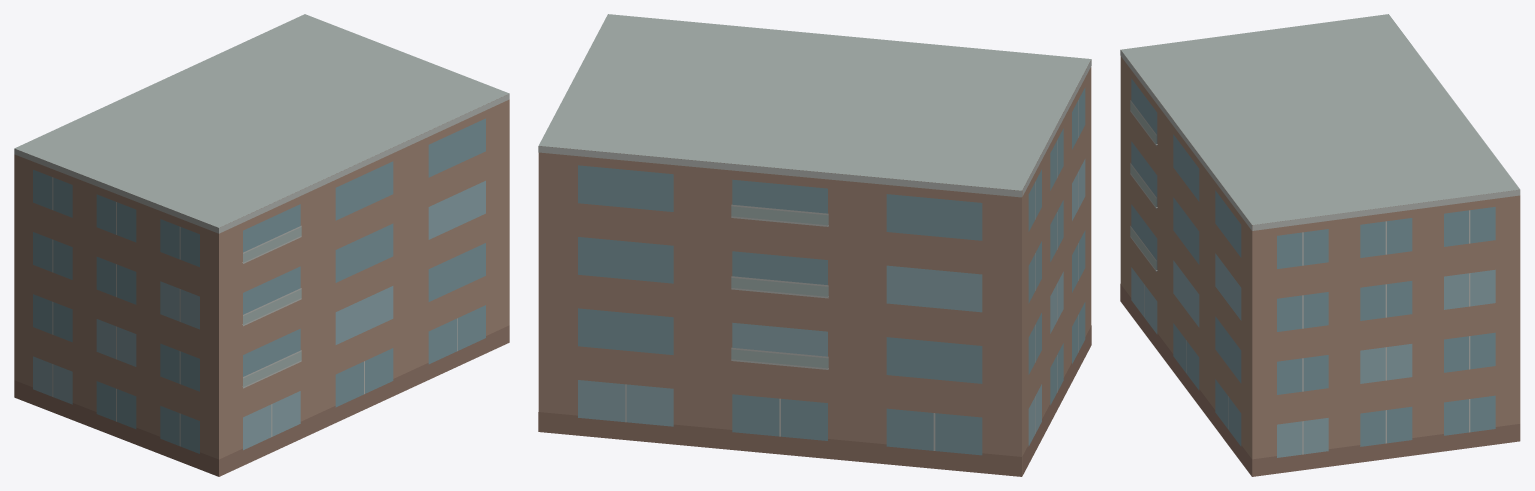
File: survey-upis-32720587.glb
The picture shows the model from 3 angles, left to right: view 1: azimuth 30°, elevation 25°; view 2: azimuth 150°, elevation 25°; view 3: azimuth 270°, elevation 25°; orthographic projection. The views are drawn at different scales.
Parts seen in each view (by area): view 1: survey-upis-32720587.tmp; view 2: survey-upis-32720587.tmp; view 3: survey-upis-32720587.tmp.
Part boxes in pixels (x1,y1,x2,y2): survey-upis-32720587.tmp: (14, 14, 509, 476); survey-upis-32720587.tmp: (538, 14, 1091, 476); survey-upis-32720587.tmp: (1120, 14, 1520, 476).
Size of the model in its own units: 18.71 by 10.4 by 14.98.
